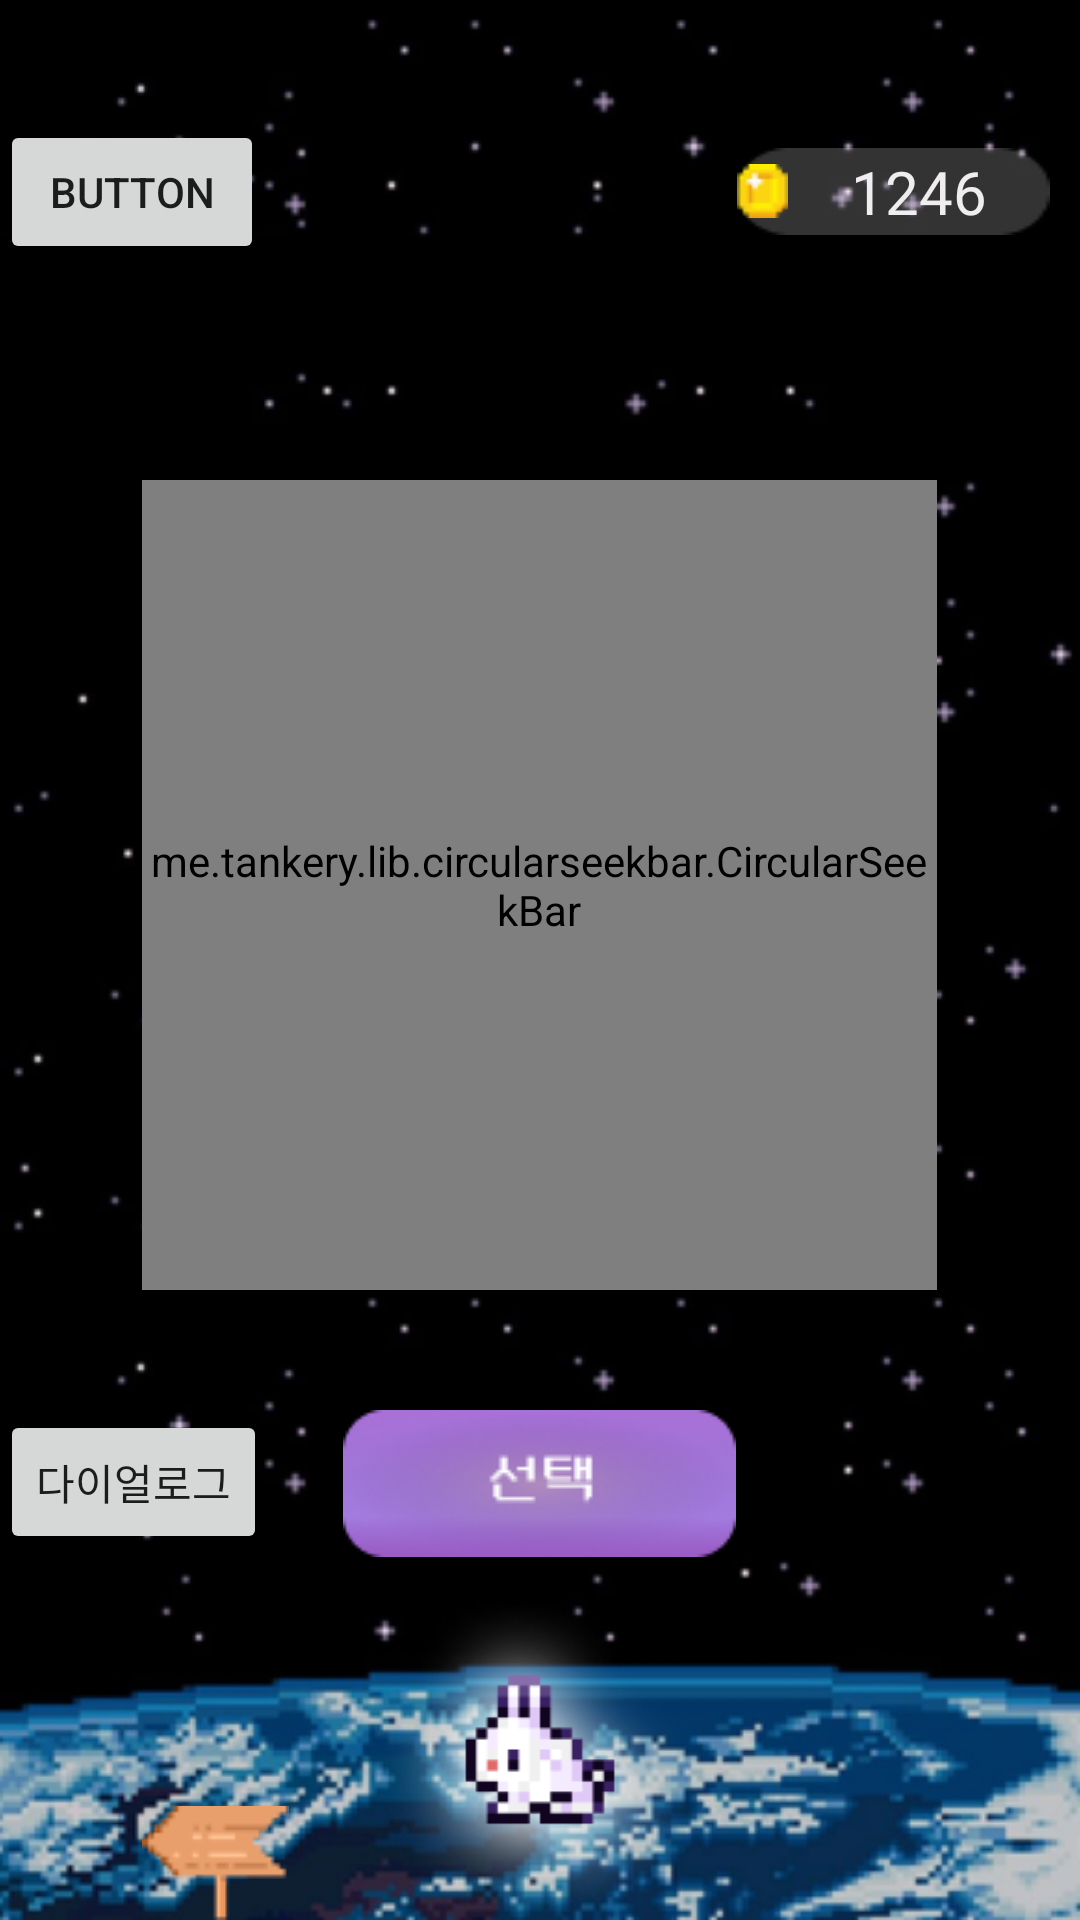

Screen size 1080 x 1920. Icon name, then its center in pixels as point (x, y):
left: point (215, 1863)
